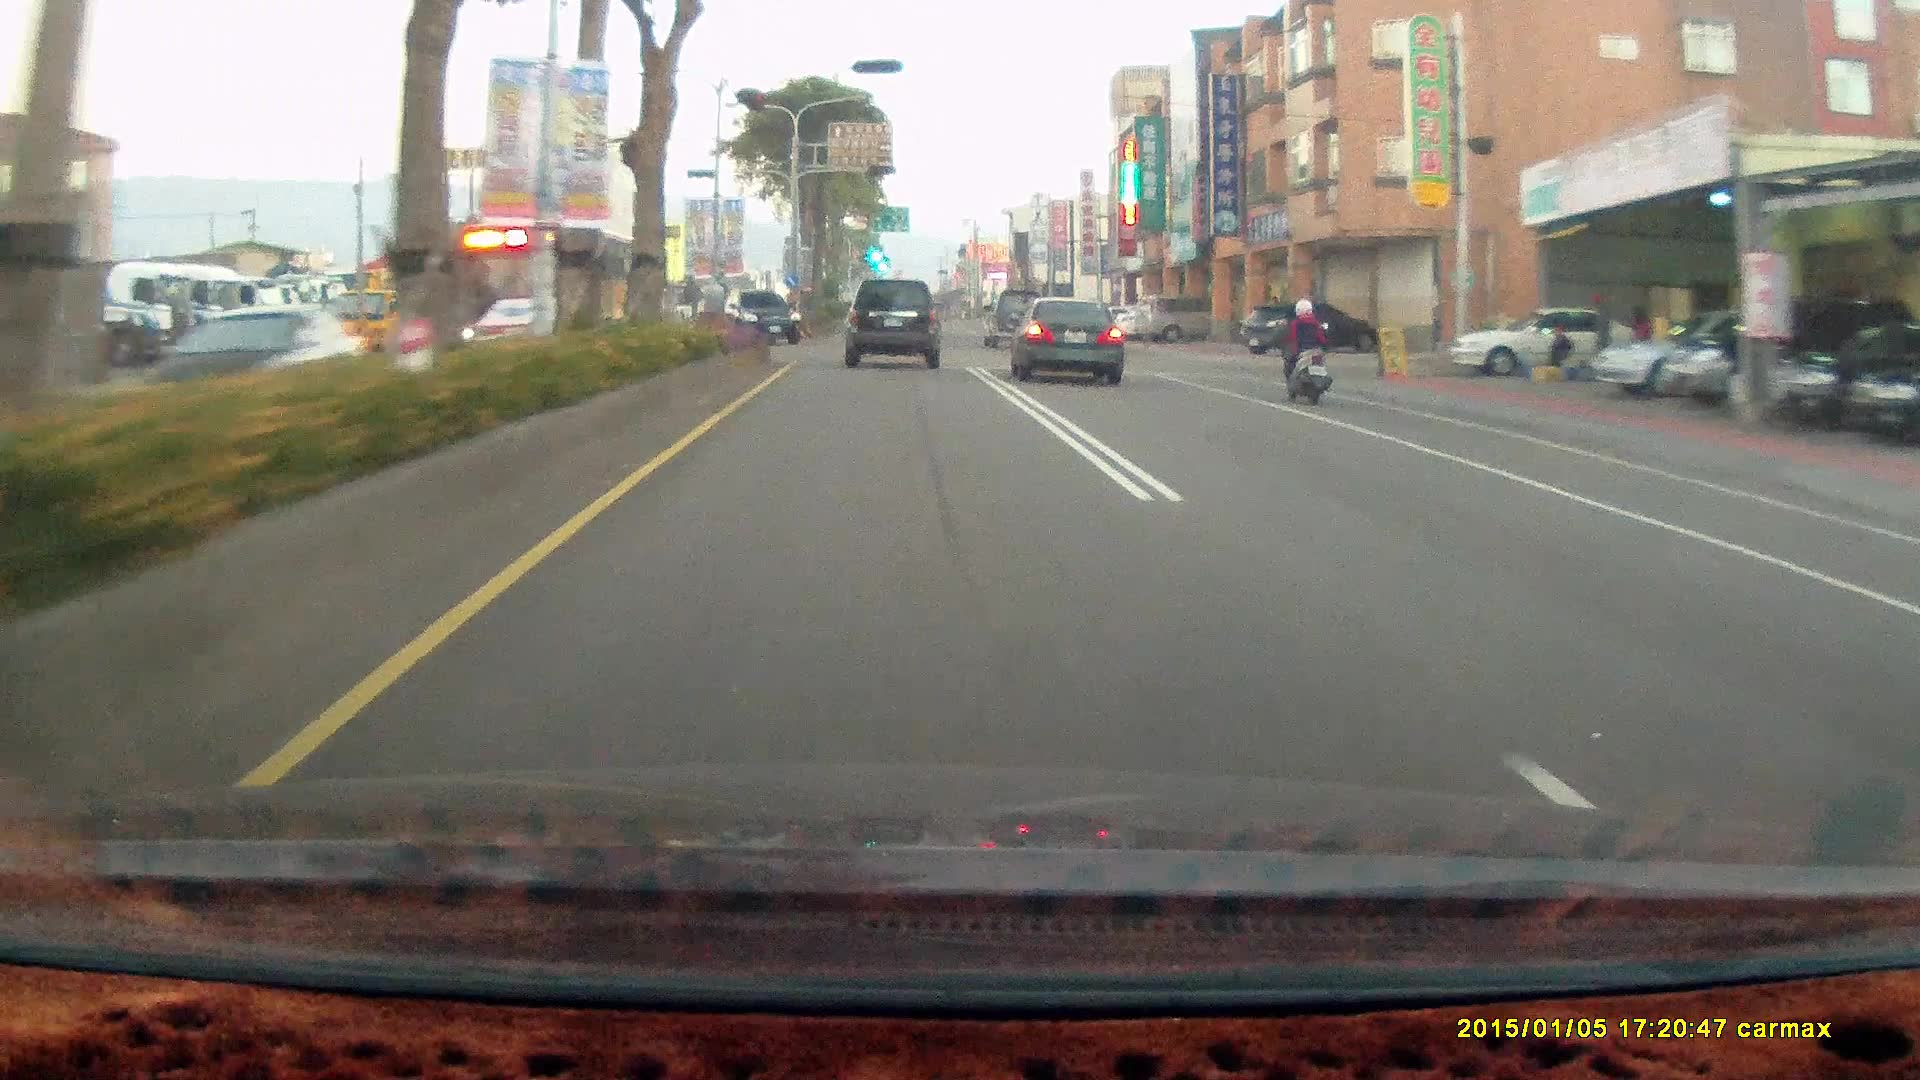pedestrian: (1588, 291, 1613, 375), (1545, 321, 1574, 378), (1627, 304, 1651, 364)
rider: (1270, 289, 1341, 415), (1273, 296, 1331, 403)
vehicle: (424, 218, 675, 364), (455, 223, 668, 363), (140, 301, 368, 419), (1657, 302, 1864, 415), (1663, 301, 1871, 410), (1592, 308, 1834, 400), (148, 302, 365, 402), (1596, 305, 1815, 399), (1437, 306, 1642, 381), (1782, 319, 1920, 429), (1786, 318, 1916, 429), (1447, 305, 1639, 377), (1014, 298, 1133, 393), (1002, 293, 1122, 382), (842, 281, 945, 372), (841, 279, 942, 370), (1846, 336, 1920, 446), (1239, 303, 1382, 358), (1237, 303, 1377, 358), (717, 289, 801, 350), (1138, 294, 1232, 345), (717, 289, 801, 344), (1127, 295, 1215, 347), (981, 288, 1046, 347)
